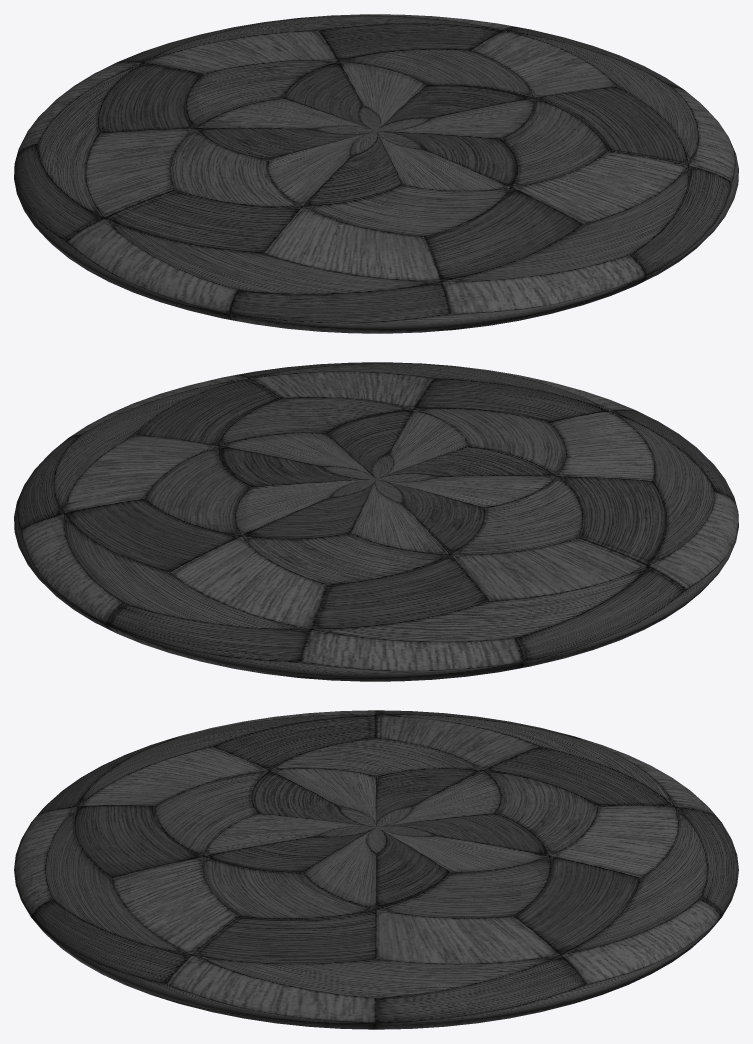
The model's file is DiscDarkGrey.glb.
3 views of the same model, one above another, from view 1: azimuth 30°, elevation 25°; view 2: azimuth 150°, elevation 25°; view 3: azimuth 270°, elevation 25° (orthographic).
Parts seen in each view (by area): view 1: Sphere; view 2: Sphere; view 3: Sphere.
Boxes of the visible parts, bbox=[...] form: Sphere: bbox=[14, 14, 738, 333]; Sphere: bbox=[14, 362, 738, 681]; Sphere: bbox=[14, 710, 738, 1029].
Size of the model in its own units: 2 by 0.2604 by 2.
1 material, 1 textured.
